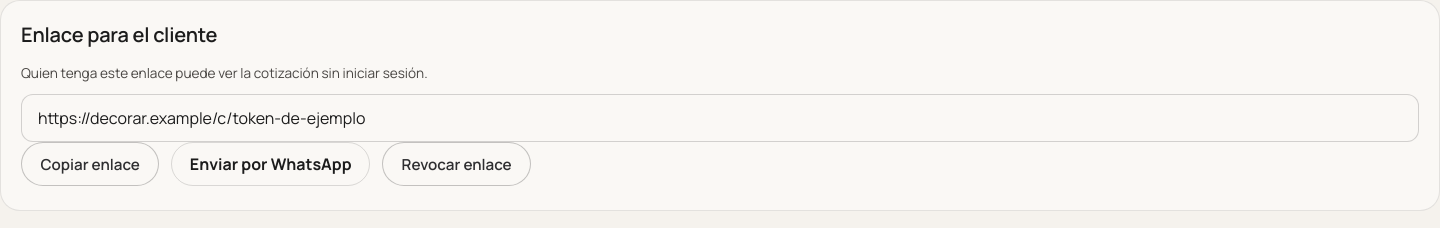
Test: ShareLinkSection (DECOR-53) › revocar el enlace vuelve a mostrar el botón de crear
Expected: the field showing "https://decorar.example/c/token-de-ejemplo" is shown, [21,94,1419,142]
Click the button "Revocar enlace": (457, 164) [382,142,531,186]
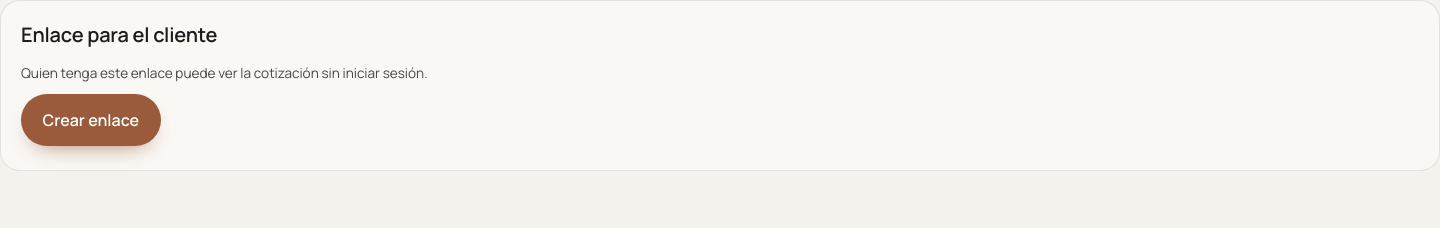
Result: the button "Crear enlace" is shown at [21,94,161,146]
